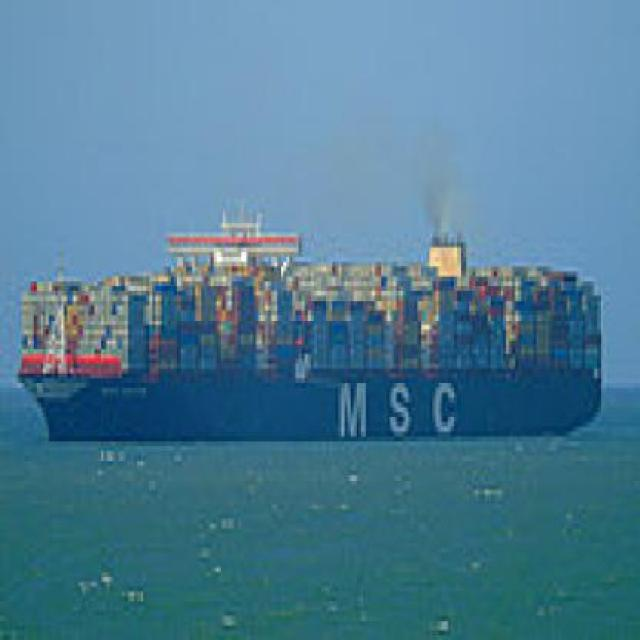container: (16, 146, 614, 471)
